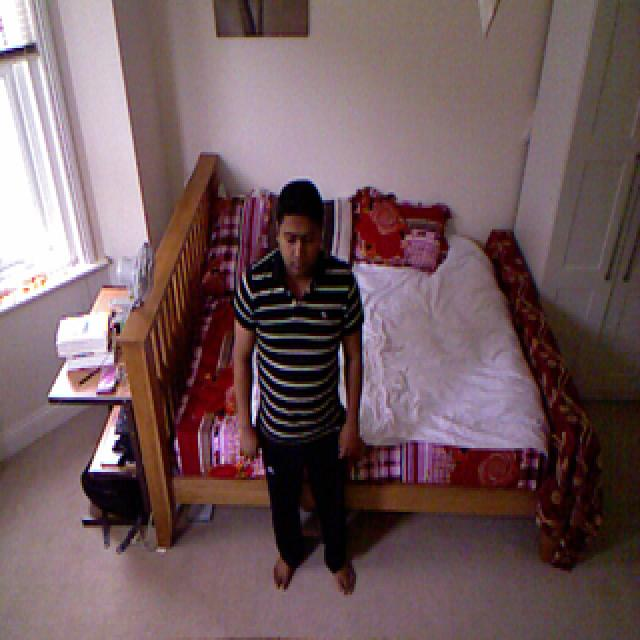standing: (241, 182, 384, 608)
